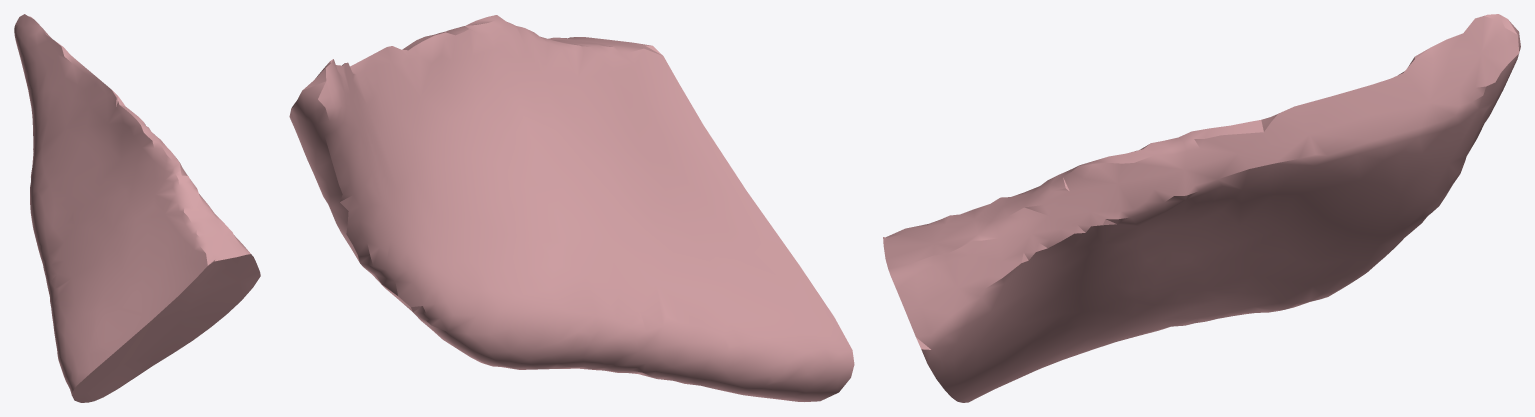
The model's file is fma275249_mm3797m.glb.
The picture shows the model from 3 angles, left to right: view 1: azimuth 30°, elevation 25°; view 2: azimuth 150°, elevation 25°; view 3: azimuth 270°, elevation 25°; orthographic projection. The views are drawn at different scales.
Parts seen in each view (by area): view 1: FMA275249_MM3797M; view 2: FMA275249_MM3797M; view 3: FMA275249_MM3797M.
Boxes of the visible parts, x1=… form: FMA275249_MM3797M: x1=14, y1=14, x2=260, y2=402; FMA275249_MM3797M: x1=289, y1=15, x2=854, y2=401; FMA275249_MM3797M: x1=883, y1=14, x2=1520, y2=402.
Bounding box in the file's own units: 0.014 × 0.0192 × 0.0249.
